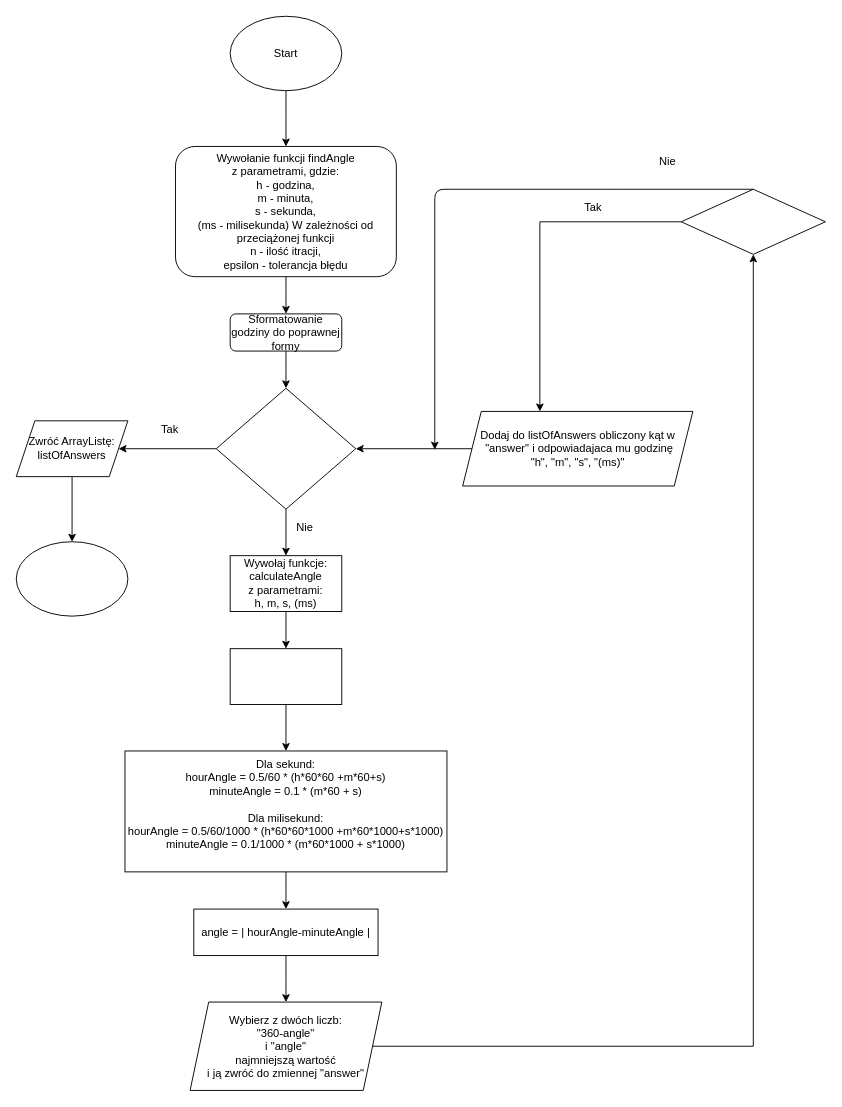
Image size: 842x1107. Some labels were removed from this diagram. Each missing label, with the centre of its shape:
answer < epsilon ?: pixel 752 221
i := 0 i < n ?: pixel 285 448
Sformatuj podany czas do przystępnej formy: pixel 285 676
Stop: pixel 71 578
